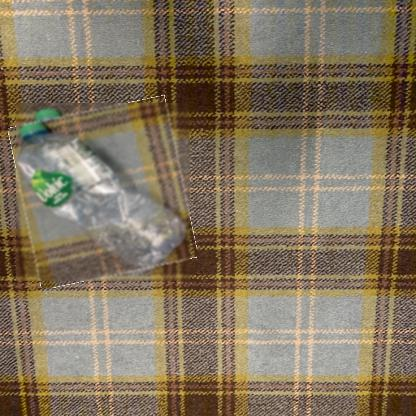plastic-bottles: (17, 104, 192, 283)
